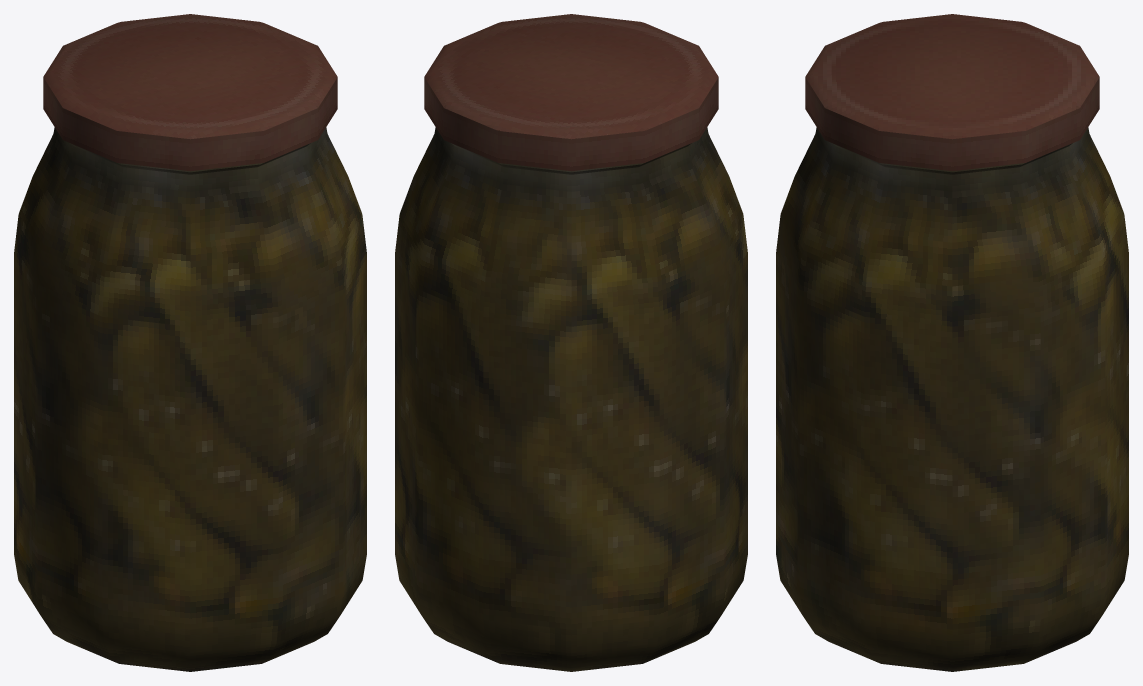
File: pickles_jar_mp_1_medium.glb
3 views of the same model, side by side, from view 1: azimuth 30°, elevation 25°; view 2: azimuth 150°, elevation 25°; view 3: azimuth 270°, elevation 25° (orthographic).
Visible parts, largest first — view 1: pickles_jar_mp_1_medium; view 2: pickles_jar_mp_1_medium; view 3: pickles_jar_mp_1_medium.
Boxes of the visible parts, x1,y1,x2,y2 form: pickles_jar_mp_1_medium: (14, 14, 366, 671); pickles_jar_mp_1_medium: (395, 14, 747, 671); pickles_jar_mp_1_medium: (776, 14, 1128, 671).
Bounding box in the file's own units: 0.1455 × 0.2453 × 0.1455.
1 material, 1 textured.
